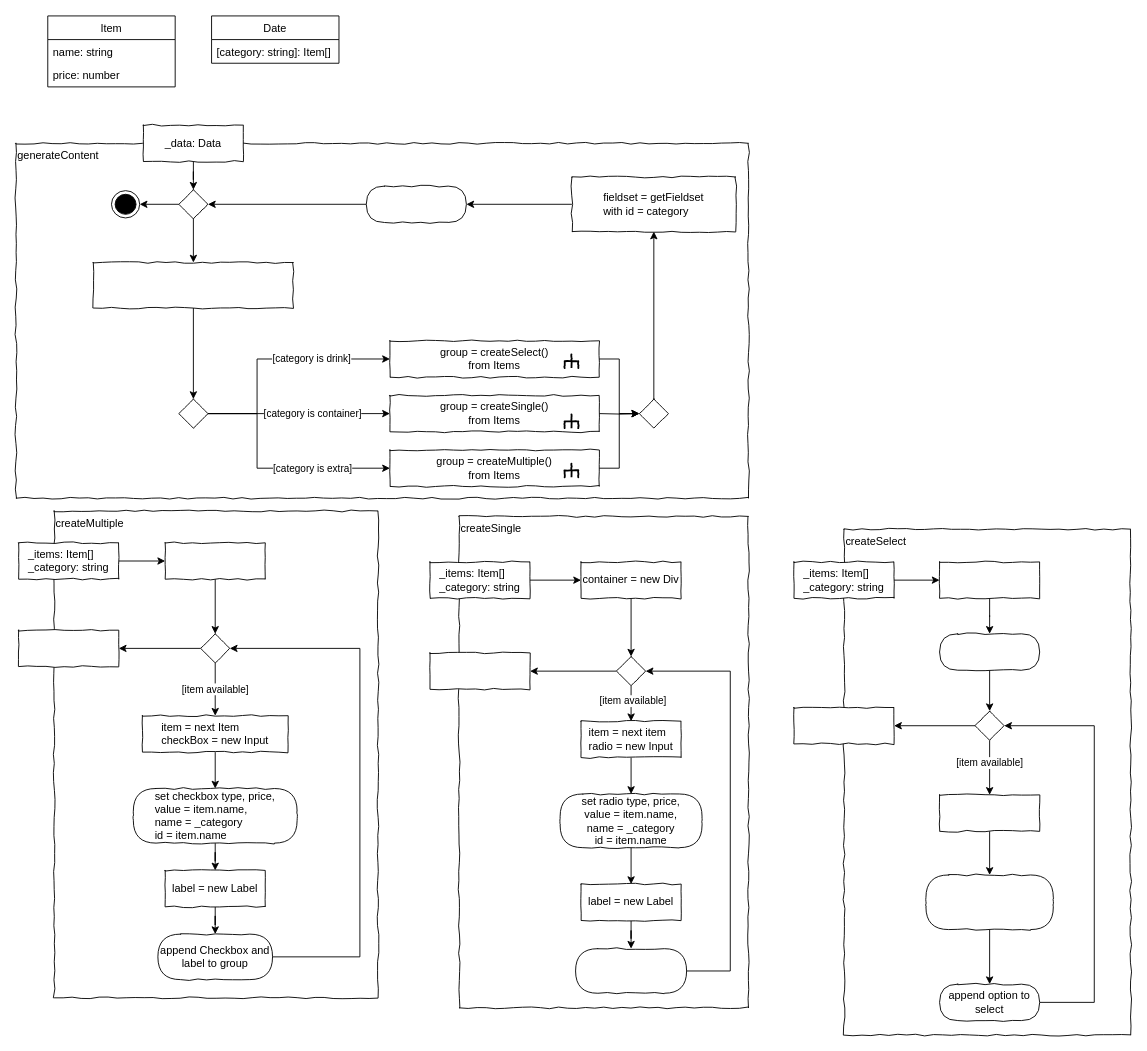
Image size: 1147x1051. Some labels were removed from this diagram. The shapes that lost their labels are listed below. From the top down, each one's centre as x and y in pixels, then its label:
(415,203): appendChild to fieldset
(192,285): category: string = next keay items: Item[] = next itemlist
(214,560): group = new Div
(989,579): select = new Select
(68,648): group: div
(989,651): set select.name = _category
(479,670): group:div
(843,725): select: select
(989,812): item = next item option = new option
(989,902): set, price, value = item.name innerText= item.name
(631,970): append radioButton and Label to group
